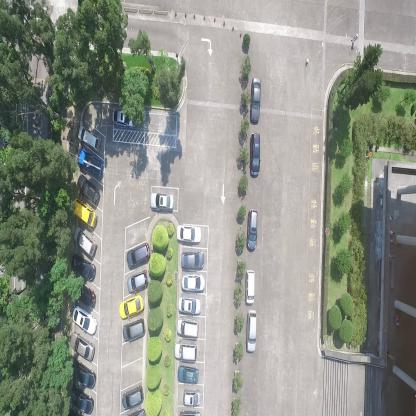car: (70, 197, 98, 230), (72, 225, 98, 259), (68, 330, 95, 362), (76, 148, 104, 178), (71, 306, 98, 335), (71, 359, 97, 389), (69, 385, 95, 415), (71, 251, 96, 282), (118, 292, 145, 320), (77, 124, 102, 152), (127, 241, 151, 270), (76, 175, 100, 204), (72, 280, 96, 308), (122, 318, 147, 344), (121, 382, 144, 410), (111, 107, 139, 130), (249, 76, 261, 124), (176, 222, 202, 244), (150, 190, 174, 213), (246, 208, 258, 253), (127, 270, 149, 294), (176, 317, 200, 338), (181, 272, 206, 292), (246, 309, 257, 353), (180, 249, 204, 269), (178, 296, 202, 316), (174, 342, 198, 362), (250, 131, 260, 176), (177, 364, 199, 384), (245, 268, 255, 306), (183, 388, 201, 407)
